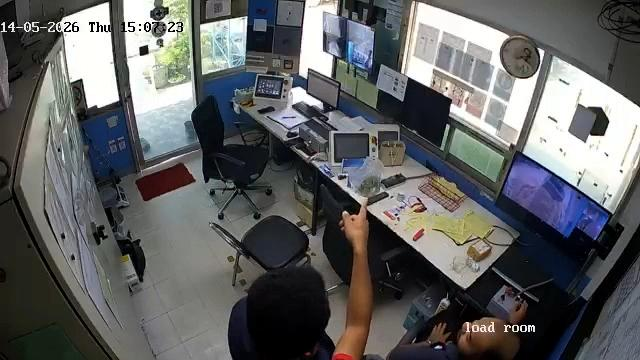Head: (249, 268, 330, 358), (458, 316, 519, 356)
People: (228, 197, 375, 360), (384, 298, 529, 360)
Phone: (257, 106, 276, 116)
